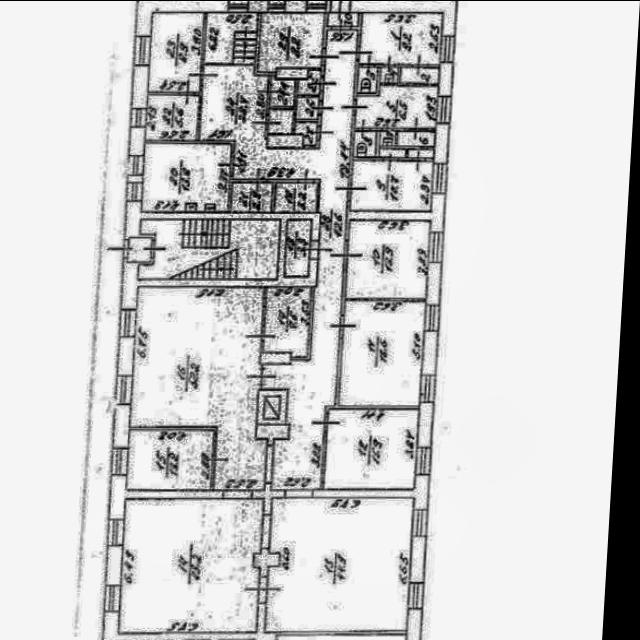room: (178, 20, 358, 493), (129, 286, 268, 489), (265, 497, 414, 631), (118, 498, 264, 632), (339, 296, 425, 409), (138, 219, 280, 278), (323, 408, 420, 488), (345, 221, 430, 297), (141, 143, 231, 211), (126, 429, 213, 488), (148, 10, 203, 94), (350, 159, 433, 209), (359, 13, 442, 62), (257, 12, 325, 71), (263, 283, 311, 357), (355, 85, 438, 127), (204, 9, 256, 65), (144, 95, 198, 139), (285, 218, 312, 277), (274, 182, 317, 212), (230, 182, 272, 212), (269, 75, 296, 107), (127, 236, 152, 262), (353, 130, 376, 157), (297, 68, 320, 95), (400, 67, 440, 82), (294, 120, 318, 145), (357, 66, 378, 93), (268, 110, 293, 132), (398, 131, 435, 145), (296, 97, 320, 118), (328, 13, 359, 25), (380, 67, 398, 82), (380, 131, 395, 144), (379, 149, 405, 156), (408, 149, 434, 156)
